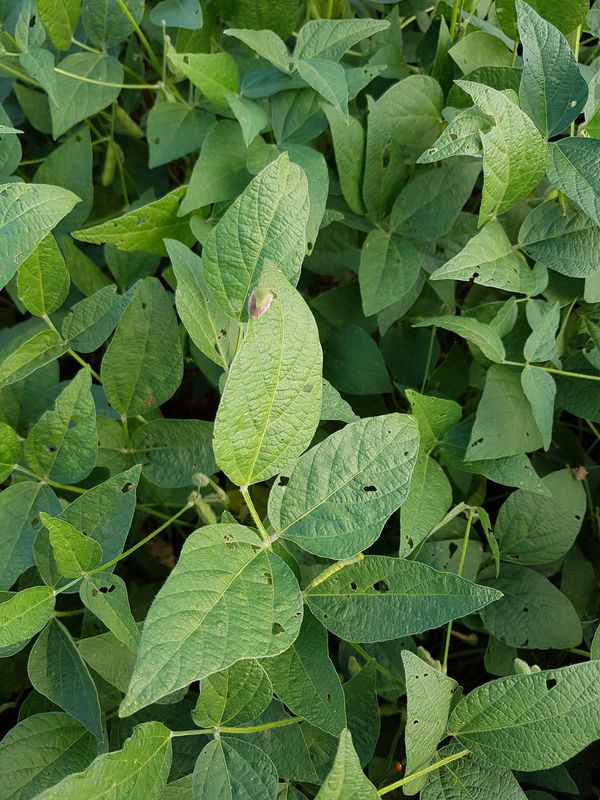Anticarsia_gemmatalis: (301, 544, 372, 595)
Coccinellidae: (390, 758, 407, 776)
Edessa_meditabunda: (234, 276, 286, 333)
Euschistus_heros_adulto: (563, 456, 595, 489)
